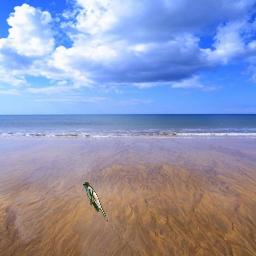Cuckoo: (83, 182, 108, 222)
